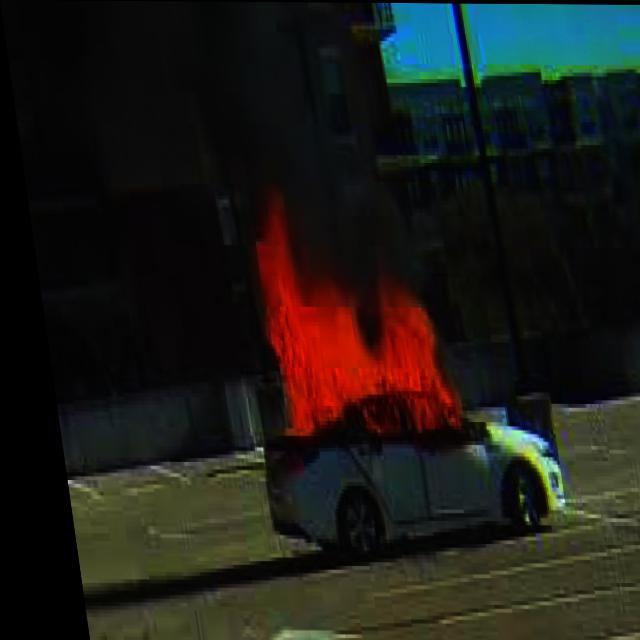Fire: (226, 196, 477, 456)
